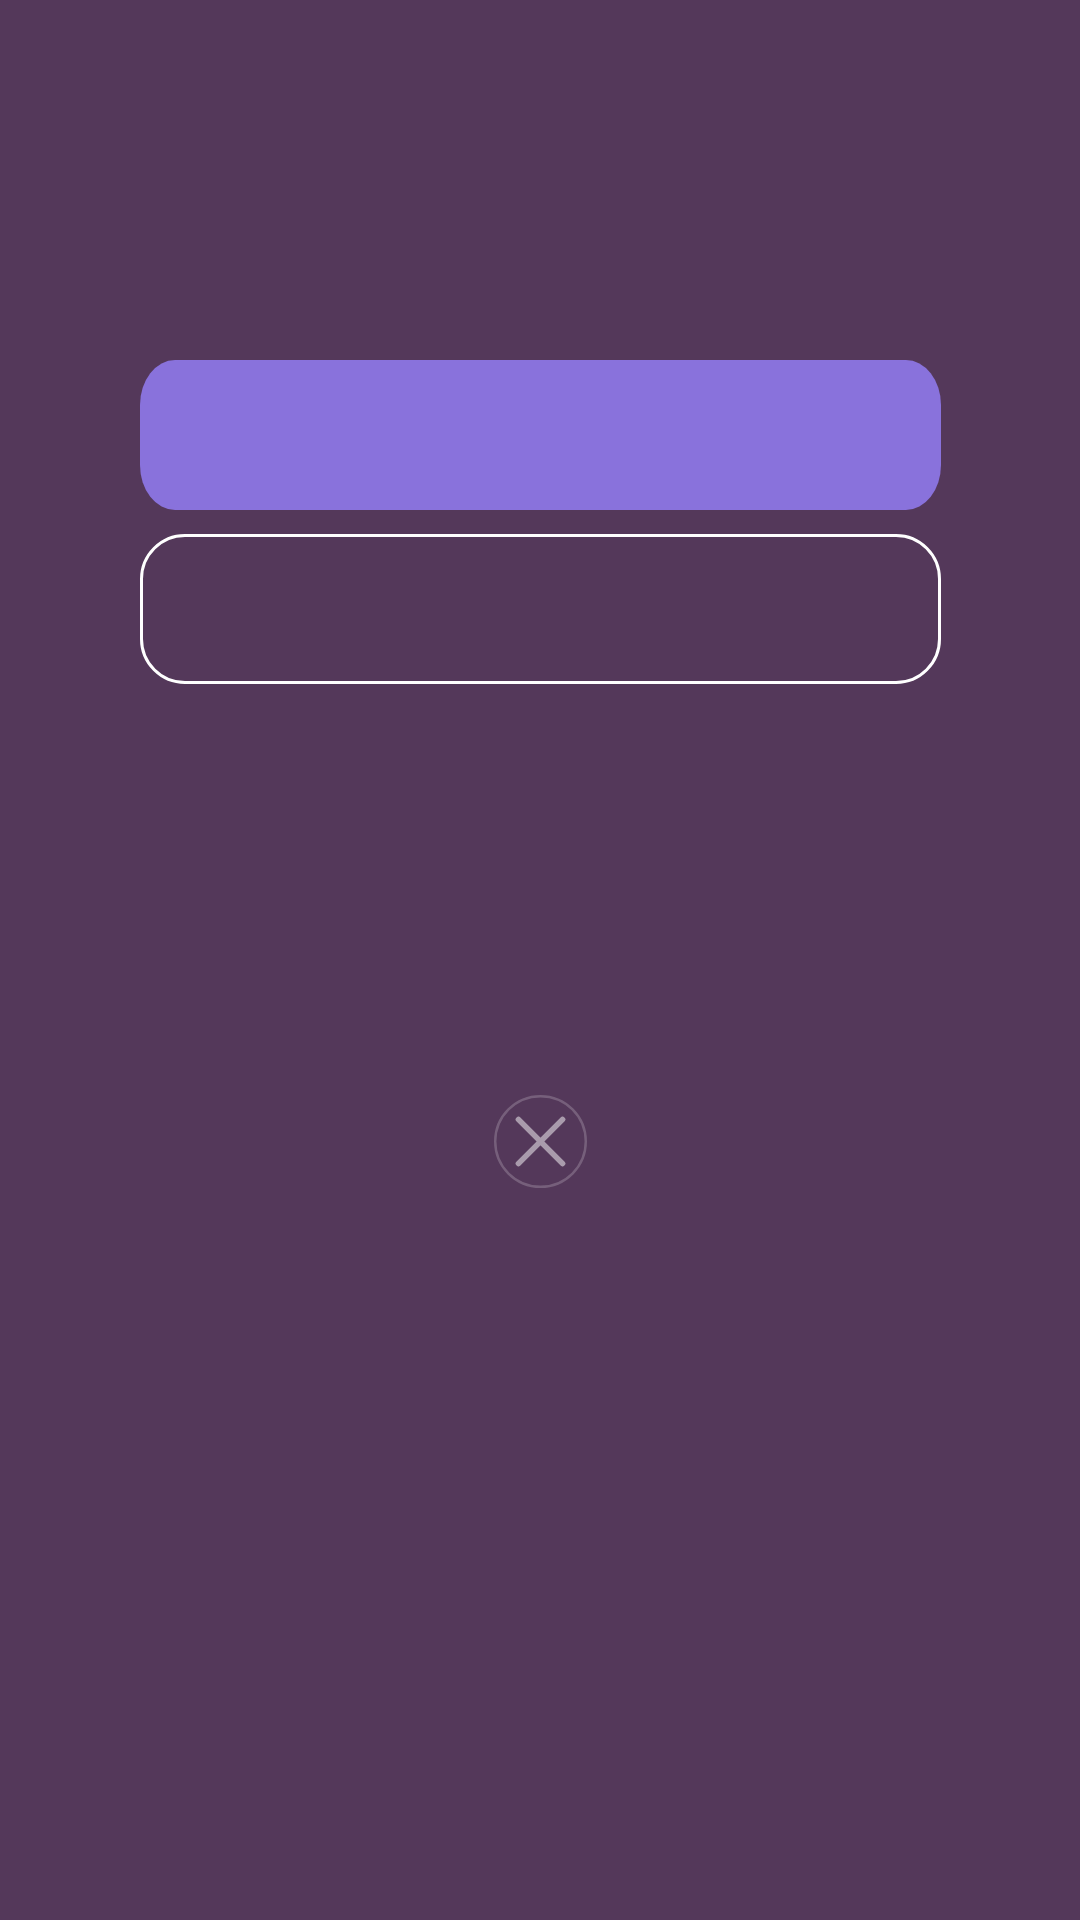

Icons on this 1080w x 1920h Android screen, each with the point to tap as [x,y]:
exit: [540,1141]
